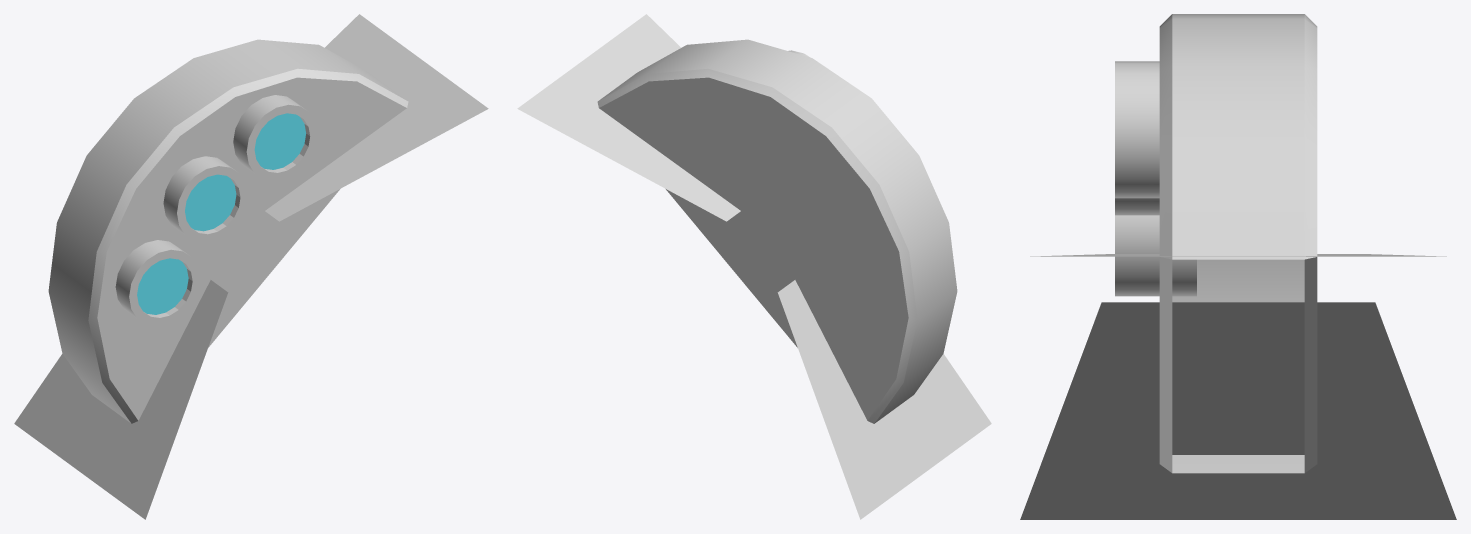
Rendered from Mod_Pauldron_R_Brains3.fbx.
3 renders of one model, left to right at view 1: azimuth 30°, elevation 25°; view 2: azimuth 150°, elevation 25°; view 3: azimuth 270°, elevation 25°, orthographic. The views are drawn at different scales.
Visible parts, largest first — view 1: Mod_Pauldron_R_Brains3; view 2: Mod_Pauldron_R_Brains3; view 3: Mod_Pauldron_R_Brains3.
Part boxes in pixels (x1=…): Mod_Pauldron_R_Brains3: x1=14, y1=14, x2=488, y2=519; Mod_Pauldron_R_Brains3: x1=517, y1=14, x2=991, y2=519; Mod_Pauldron_R_Brains3: x1=1020, y1=14, x2=1456, y2=519.
Bounding box in the file's own units: 225 × 224 × 144.
